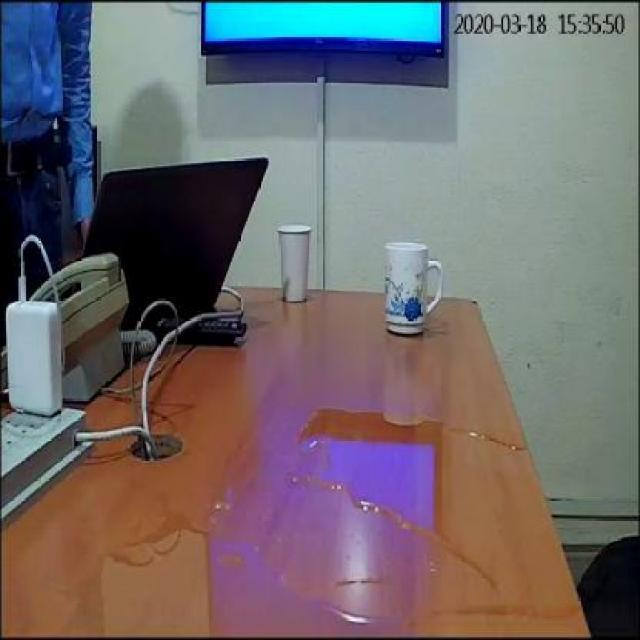spill: (296, 402, 590, 624), (58, 516, 410, 638)
